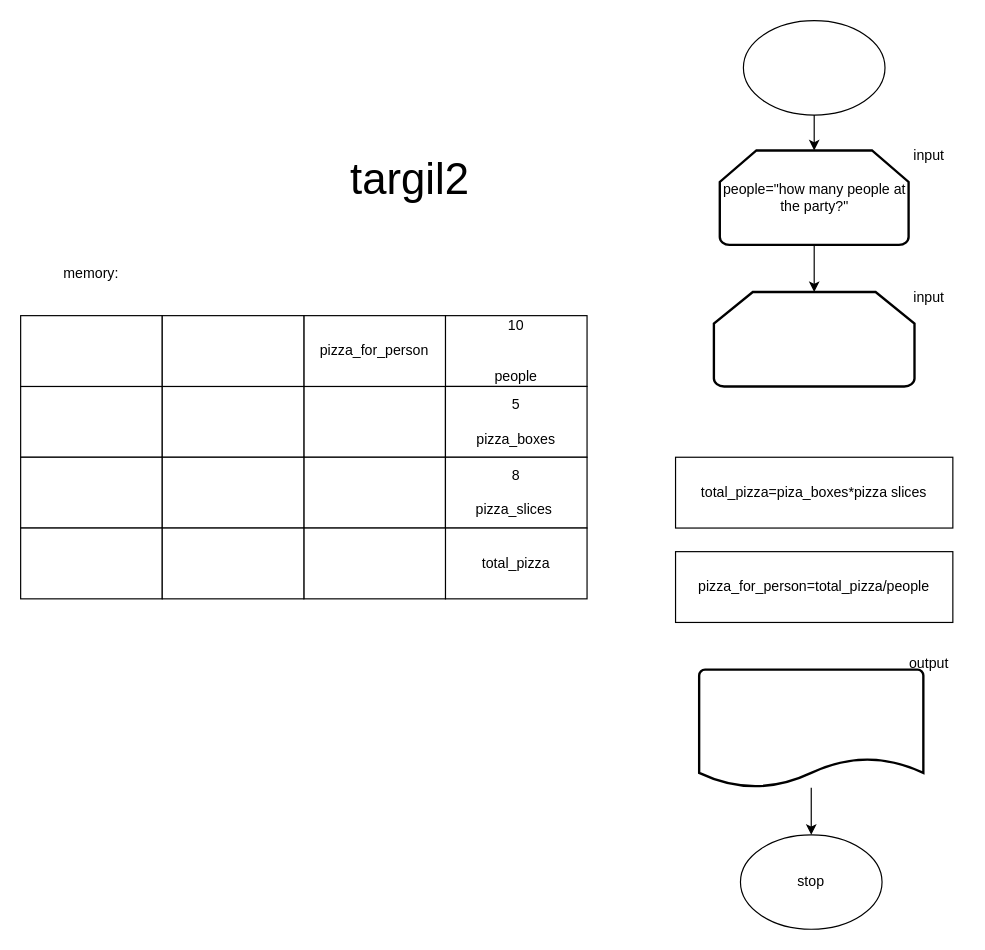
Some shapes in this 985 by 950 pixel diagram are drawn without their labels. Here are the shapes that lost their labels. From the top down, the centre of each, then its label:
[813,67]: start
[813,338]: pizza_boxes="how many piza boxes at the party?"
[810,728]: "there",pizza_for_person,"pizz for person".
